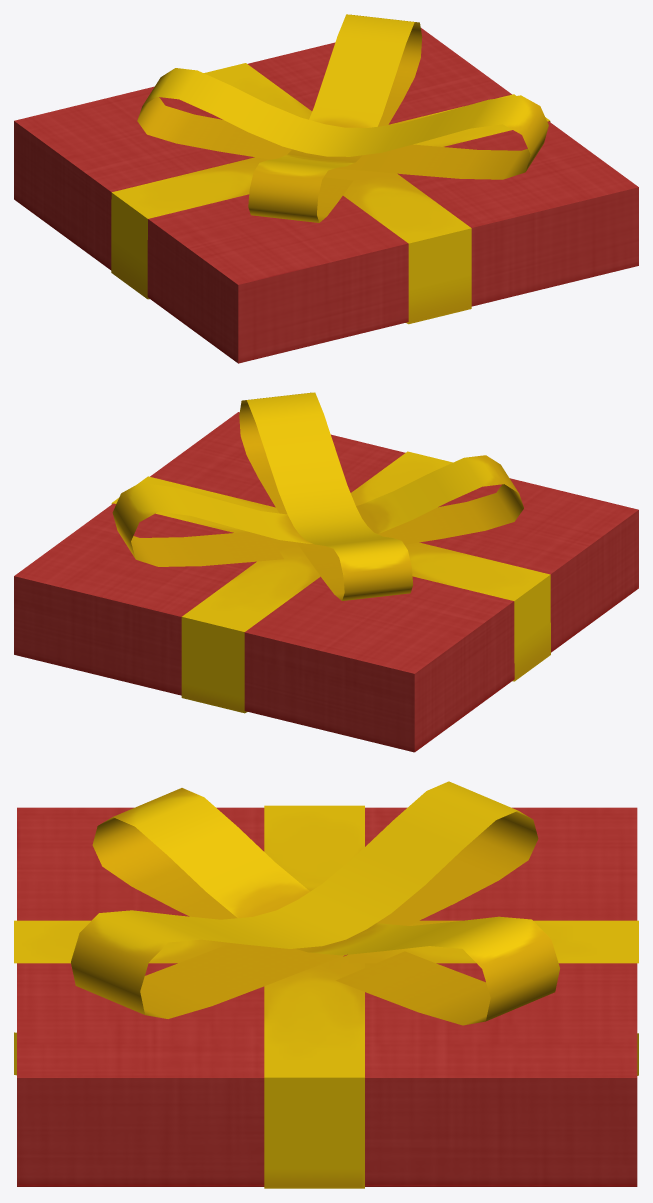
Rendered from Gift2.fbx.
3 renders of one model, top to bottom at view 1: azimuth 30°, elevation 25°; view 2: azimuth 150°, elevation 25°; view 3: azimuth 270°, elevation 25°, orthographic. The views are drawn at different scales.
Parts seen in each view (by area): view 1: Gift2; view 2: Gift2; view 3: Gift2.
Boxes of the visible parts, x1,y1,x2,y2 form: Gift2: [14, 14, 638, 363]; Gift2: [14, 392, 638, 752]; Gift2: [14, 781, 638, 1188].
Size of the model in its own units: 63.92 by 22.71 by 62.08.
